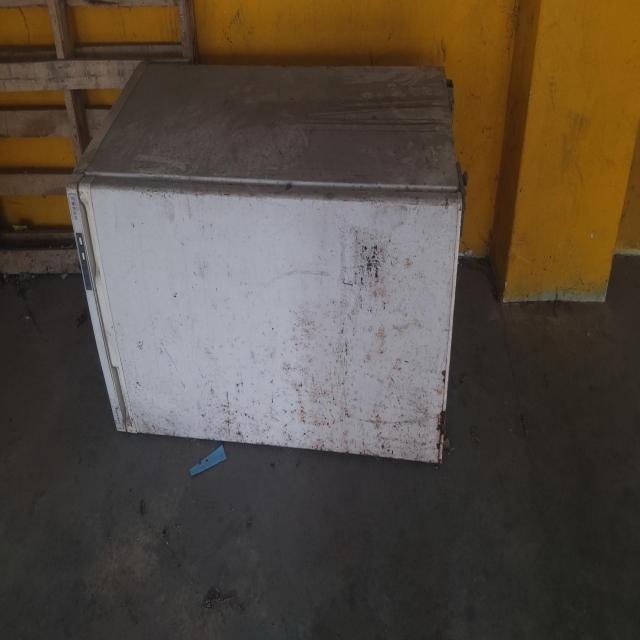refrigerator: (65, 59, 468, 467)
